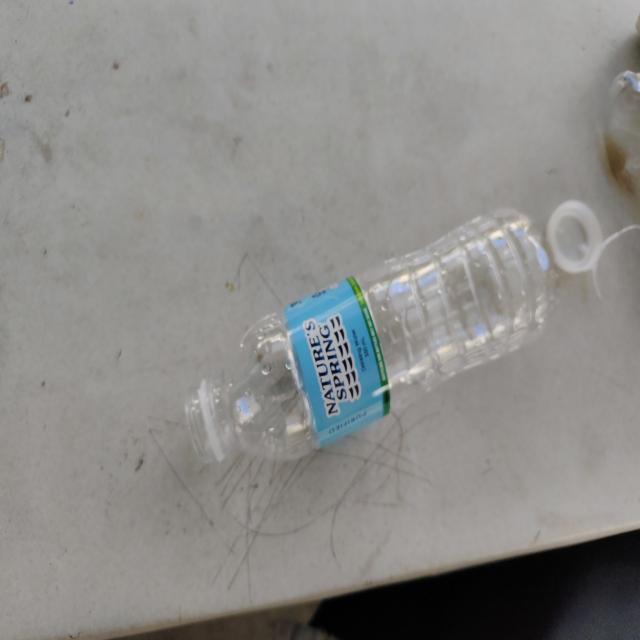Bottle: (184, 209, 559, 463)
